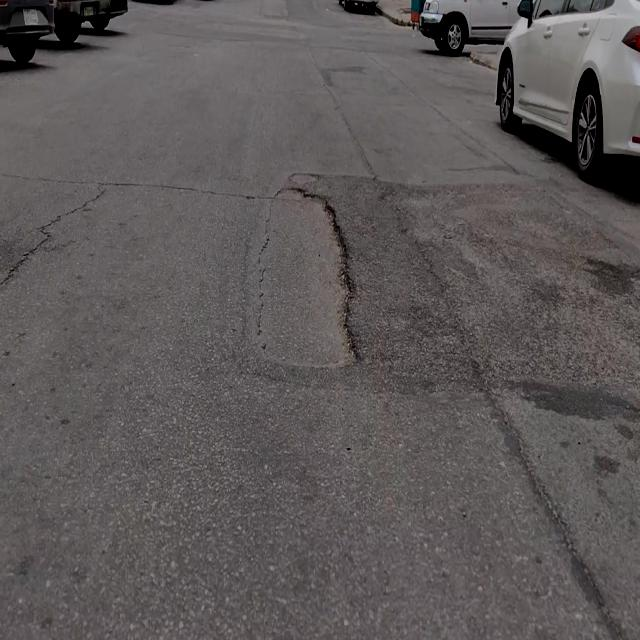Potholes: (256, 182, 360, 372)
